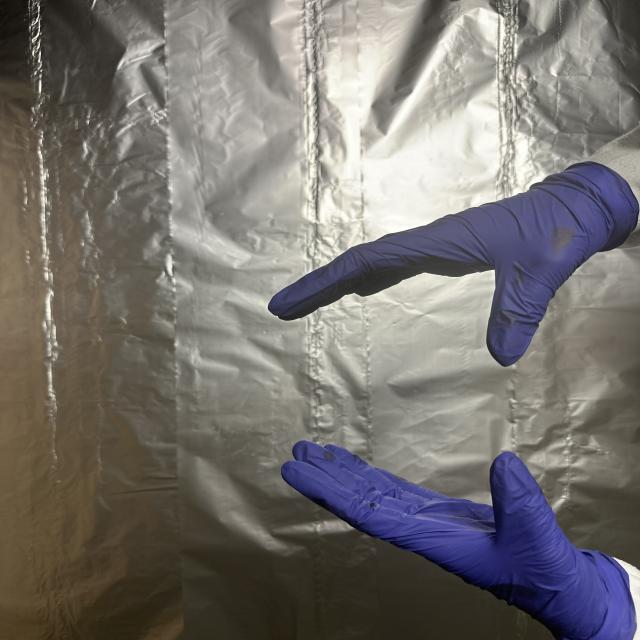gloves_contaminated: (268, 161, 638, 367), (282, 441, 636, 640)
